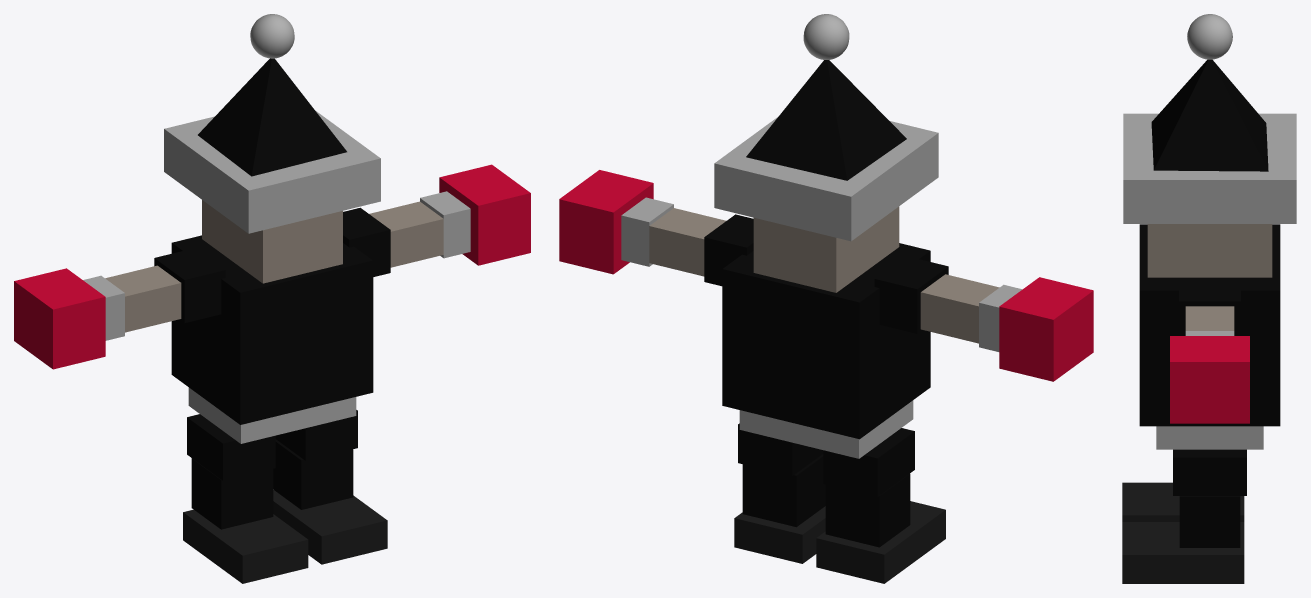
Rendered from Elf_Dark_Melee_T.fbx.
3 renders of one model, left to right at view 1: azimuth 30°, elevation 25°; view 2: azimuth 150°, elevation 25°; view 3: azimuth 270°, elevation 25°, orthographic. The views are drawn at different scales.
Visible parts, largest first — view 1: Chest, HatBrim, Hat, RightGlove, Face, LeftGlove, RightFoot, LeftFoot, RightShin, LeftShin, RightThigh, RightBicep (+8 smaller); view 2: Chest, HatBrim, Hat, RightGlove, Face, LeftGlove, RightFoot, RightShin, LeftShin, RightThigh, RightBicep, Pelvis (+8 smaller); view 3: HatBrim, Chest, Hat, LeftGlove, Face, LeftFoot, LeftThigh, LeftShin, Pelvis, RightFoot, LeftShoulderRotate, HatBall (+2 smaller).
Part boxes in pixels (x1=…): Chest: x1=171, y1=235, x2=373, y2=424; HatBrim: x1=164, y1=110, x2=380, y2=233; Hat: x1=198, y1=58, x2=346, y2=176; RightGlove: x1=14, y1=268, x2=105, y2=369; Face: x1=202, y1=200, x2=342, y2=283; LeftGlove: x1=439, y1=164, x2=530, y2=265; RightFoot: x1=183, y1=509, x2=308, y2=583; LeftFoot: x1=273, y1=490, x2=387, y2=564; RightShin: x1=191, y1=458, x2=273, y2=529; LeftShin: x1=273, y1=439, x2=353, y2=509; RightThigh: x1=187, y1=414, x2=275, y2=480; RightBicep: x1=105, y1=265, x2=181, y2=332; Chest: x1=722, y1=243, x2=930, y2=439; HatBrim: x1=714, y1=116, x2=938, y2=241; Hat: x1=746, y1=60, x2=906, y2=180; RightGlove: x1=999, y1=277, x2=1093, y2=381; Face: x1=753, y1=206, x2=899, y2=292; LeftGlove: x1=559, y1=170, x2=653, y2=274; RightFoot: x1=816, y1=501, x2=945, y2=583; RightShin: x1=825, y1=474, x2=910, y2=547; LeftShin: x1=742, y1=454, x2=825, y2=527; RightThigh: x1=823, y1=428, x2=914, y2=496; RightBicep: x1=920, y1=274, x2=999, y2=343; Pelvis: x1=739, y1=400, x2=913, y2=458; HatBrim: x1=1123, y1=113, x2=1296, y2=223; Chest: x1=1139, y1=224, x2=1280, y2=426; Hat: x1=1151, y1=59, x2=1268, y2=171; LeftGlove: x1=1170, y1=336, x2=1249, y2=423; Face: x1=1147, y1=224, x2=1272, y2=277; LeftFoot: x1=1122, y1=522, x2=1244, y2=583; LeftThigh: x1=1173, y1=449, x2=1246, y2=495; LeftShin: x1=1179, y1=496, x2=1240, y2=547; Pelvis: x1=1156, y1=426, x2=1263, y2=449; RightFoot: x1=1122, y1=482, x2=1244, y2=521; LeftShoulderRotate: x1=1179, y1=280, x2=1240, y2=335; HatBall: x1=1187, y1=14, x2=1232, y2=59.
Size of the model in its own units: 11.59 by 12.03 by 3.57.
